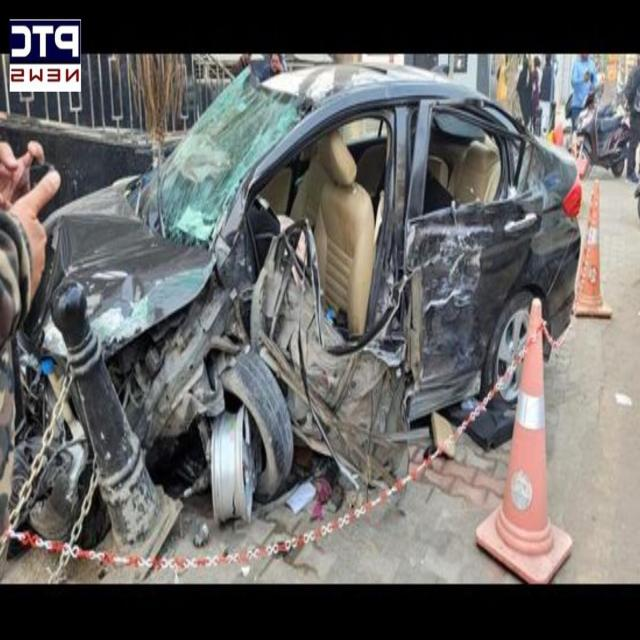accident: (15, 64, 580, 522)
